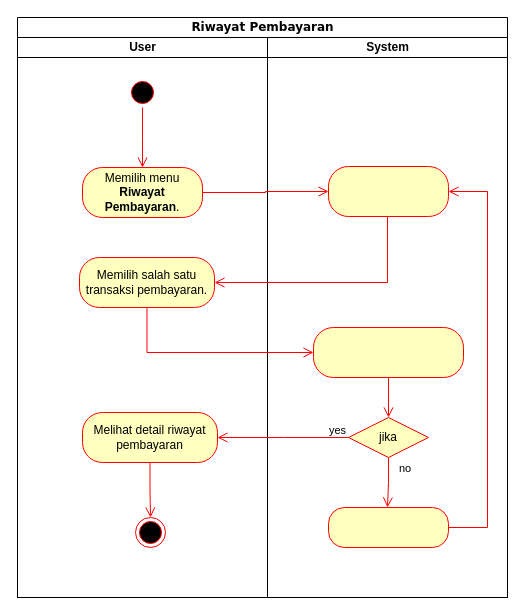
Image size: 525x615. Some labels were removed from this diagram. The shapes that lost their labels are listed below. From the top down, each one's centre as x and y in pixels, then its label:
(x=388, y=191): Menampilkan halaman Riwayat Pembayaran.
(x=388, y=352): Memeriksa apakah data riwayat pembayaran tersedia.
(x=388, y=527): Menampilakan Pesan "gagal"
